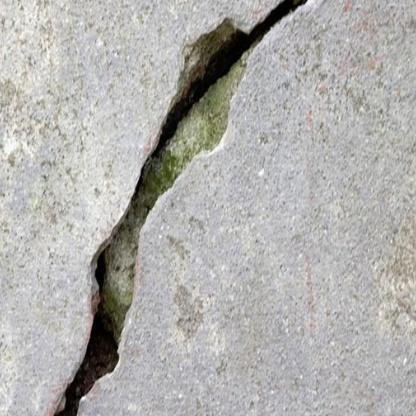Cracks: (44, 0, 342, 416)
